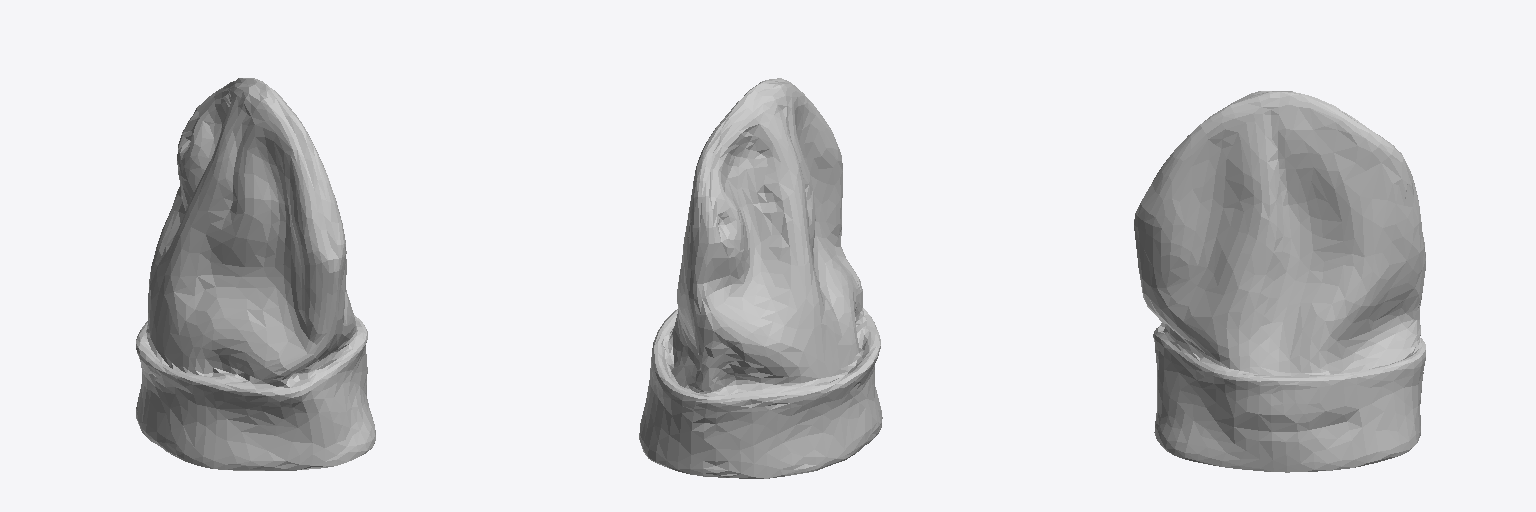
The model's file is 0001_NEW_NOTABLE_ONETEX4_1_Export_01_Low.obj.
The picture shows the model from 3 angles: view 1: azimuth 30°, elevation 25°; view 2: azimuth 150°, elevation 25°; view 3: azimuth 270°, elevation 25°; orthographic projection.
Parts seen in each view (by area): view 1: 0001_NEW_NOTABLE_ONETEX4_1; view 2: 0001_NEW_NOTABLE_ONETEX4_1; view 3: 0001_NEW_NOTABLE_ONETEX4_1.
Boxes of the visible parts, x1,y1,x2,y2 form: 0001_NEW_NOTABLE_ONETEX4_1: [136, 78, 375, 470]; 0001_NEW_NOTABLE_ONETEX4_1: [639, 78, 882, 478]; 0001_NEW_NOTABLE_ONETEX4_1: [1134, 91, 1425, 472].
Bounding box in the file's own units: 1.69 × 2.75 × 2.15.